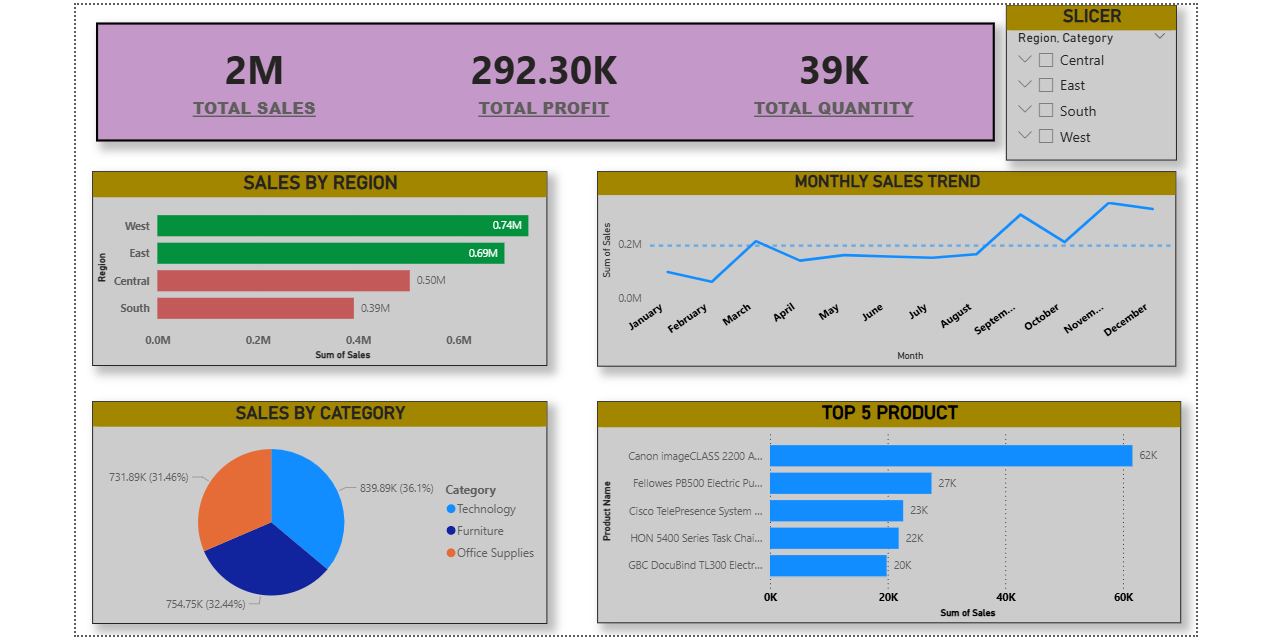

The dashboard page shown, as its layout file describes it:
{"tool":"powerbi","page":{"name":"Page 1","canvas":[1280,720],"ordinal":0},"visuals":[{"type":"barChart","title":"SALES BY REGION","fields":{"Category":["Orders.Region"],"Y":["Sum(Orders.Sales)"]},"box":[18.8,190,520,222.5],"z":0},{"type":"lineChart","title":"MONTHLY SALES TREND","fields":{"Category":["Orders.Order Date.Variation.Date Hierarchy.Month"],"Y":["Sum(Orders.Sales)"]},"box":[595.7,190,661.4,222.9],"z":1000},{"type":"pieChart","title":"SALES BY CATEGORY","fields":{"Category":["Orders.Category"],"Y":["Sum(Orders.Sales)"]},"box":[18.6,452.9,520,254.3],"z":2000},{"type":"cardVisual","fields":{"Data":["Sum(Orders.Sales)","Sum(Orders.Profit)","Sum(Orders.Quantity)"]},"box":[23,20,1027.1,135.7],"z":3000},{"type":"barChart","title":"TOP 5 PRODUCT","fields":{"Category":["Orders.Product Name"],"Y":["Sum(Orders.Sales)"]},"box":[596.2,452.5,667.5,253.8],"z":4000},{"type":"slicer","title":"SLICER","fields":{"Values":["Orders.Region","Orders.Category"]},"box":[1062.8,0,195.3,177.9],"z":5000}]}

Visuals, with their boxes in screenshot pixels (x1, y1, x2, y2):
"SALES BY REGION" barChart: [left=87, top=168, right=546, bottom=365]
"MONTHLY SALES TREND" lineChart: [left=597, top=168, right=1182, bottom=365]
"SALES BY CATEGORY" pieChart: [left=86, top=401, right=546, bottom=625]
cardVisual - Sum(Orders.Sales) x Sum(Orders.Profit): [left=90, top=18, right=999, bottom=138]
"TOP 5 PRODUCT" barChart: [left=597, top=400, right=1187, bottom=625]
"SLICER" slicer: [left=1010, top=0, right=1182, bottom=157]
